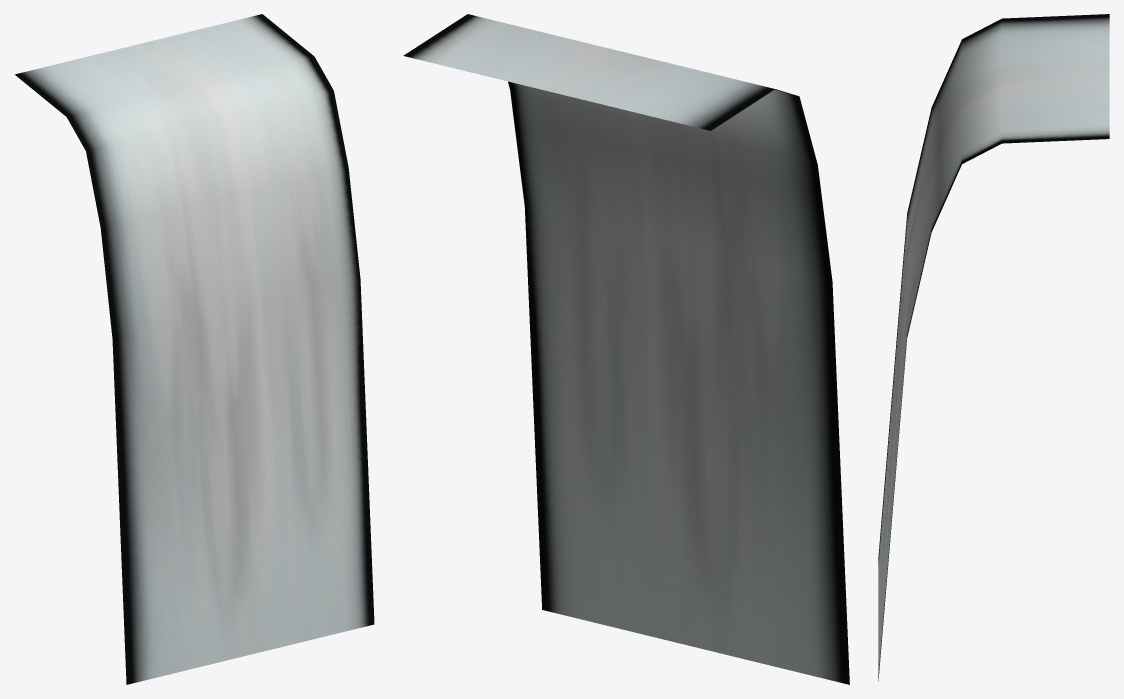
File: Waterfall.gltf
The picture shows the model from 3 angles, left to right: view 1: azimuth 30°, elevation 25°; view 2: azimuth 150°, elevation 25°; view 3: azimuth 270°, elevation 25°; orthographic projection. The views are drawn at different scales.
Parts seen in each view (by area): view 1: Waterfall; view 2: Waterfall; view 3: Waterfall.
Part boxes in pixels (<box>): Waterfall: <box>15,14,374,684</box>; Waterfall: <box>403,14,849,684</box>; Waterfall: <box>878,14,1109,681</box>.
Size of the model in its own units: 125 by 254 by 97.6.
Materials: 1 (1 with a texture image).
